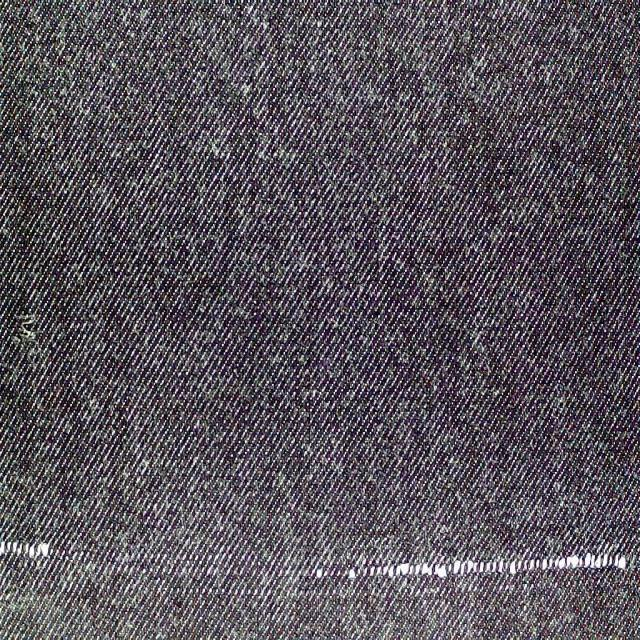pulled_or_thick_thread: (308, 539, 636, 590)
